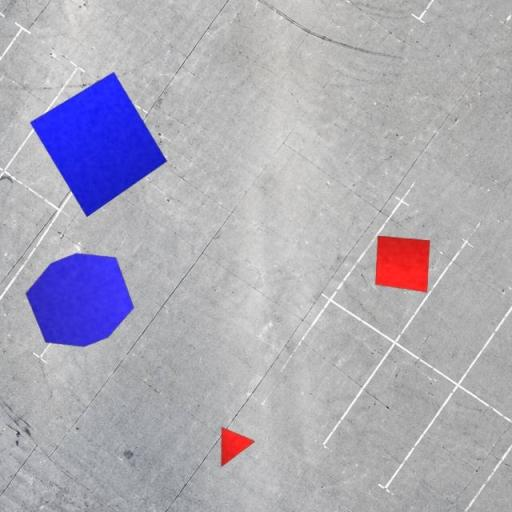BLUE_SQUARE: (30, 72, 168, 218)
RED_SQUARE: (375, 235, 431, 293)
